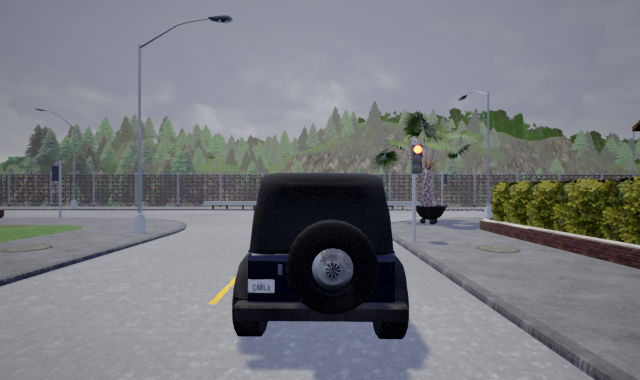vehicle: (230, 171, 409, 340)
